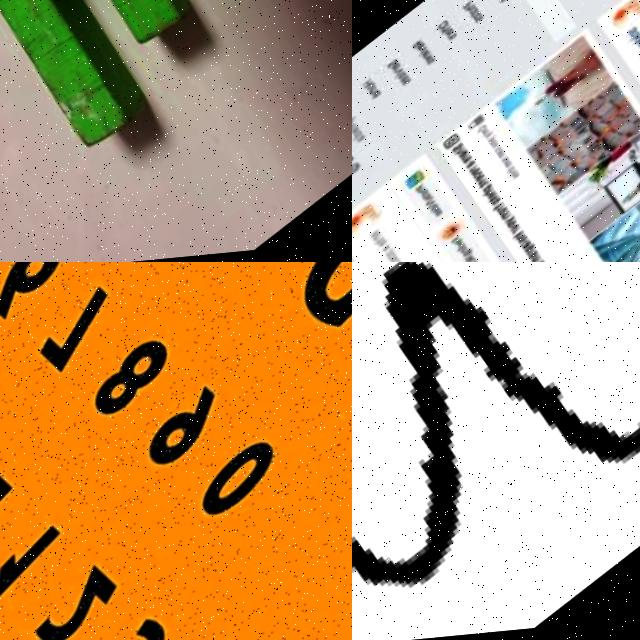0: (178, 413, 319, 545)
1: (0, 508, 85, 616)
2: (10, 547, 151, 640)
3: (352, 262, 640, 640), (75, 606, 199, 640)
6: (0, 262, 102, 352)
7: (15, 264, 152, 391)
8: (66, 312, 205, 443)
9: (125, 366, 259, 491)
A: (386, 243, 397, 253), (526, 243, 537, 253), (461, 151, 471, 161), (469, 161, 479, 171), (533, 252, 543, 262), (469, 255, 480, 262), (360, 133, 369, 141), (352, 153, 357, 165), (499, 151, 507, 158)
C: (476, 171, 486, 181), (400, 71, 409, 80), (497, 148, 506, 156), (472, 258, 481, 262)
D: (433, 203, 446, 215), (354, 129, 366, 138), (352, 146, 353, 160)
E: (374, 88, 385, 98), (474, 168, 485, 178), (354, 124, 364, 134), (402, 73, 412, 83), (418, 42, 428, 52), (423, 49, 433, 59), (445, 27, 455, 37), (383, 238, 393, 248), (461, 241, 471, 251), (508, 162, 518, 172), (393, 61, 404, 70), (465, 157, 476, 166), (478, 175, 489, 184), (437, 207, 446, 216), (506, 160, 515, 169), (459, 239, 468, 246)
F: (0, 0, 337, 185), (455, 234, 468, 246), (496, 204, 508, 214), (441, 24, 452, 33), (443, 26, 453, 35)
G: (528, 245, 541, 257), (468, 249, 479, 259)
H: (456, 147, 469, 159), (486, 189, 499, 201), (364, 77, 376, 88), (466, 5, 477, 15), (422, 186, 431, 195), (511, 170, 520, 178)
I: (517, 233, 528, 242), (396, 70, 406, 79), (378, 236, 388, 245), (462, 246, 472, 255), (357, 132, 367, 140), (420, 49, 430, 57), (432, 204, 441, 211), (513, 173, 522, 180), (631, 37, 640, 44), (352, 152, 354, 163)
K: (632, 37, 640, 49), (634, 41, 640, 53), (352, 113, 355, 123), (352, 109, 353, 120)
L: (485, 132, 493, 140), (461, 245, 470, 252)
M: (505, 212, 515, 223), (371, 84, 381, 94), (352, 119, 360, 130), (536, 256, 546, 262)
N: (520, 234, 531, 244), (481, 178, 491, 188), (484, 129, 493, 138), (501, 153, 510, 162), (466, 248, 474, 256)
O: (438, 20, 450, 31), (392, 251, 403, 261), (511, 221, 522, 231), (491, 193, 501, 203), (501, 209, 512, 218), (470, 7, 480, 16), (424, 189, 434, 198), (428, 194, 437, 204), (438, 210, 448, 219), (495, 199, 505, 208), (480, 126, 490, 135), (369, 81, 378, 90), (474, 13, 483, 21), (492, 140, 501, 148), (498, 0, 507, 2)
P: (389, 247, 402, 259), (486, 184, 499, 196), (418, 182, 431, 194), (463, 0, 475, 11)
R: (413, 38, 425, 49), (473, 166, 482, 175), (532, 250, 541, 259), (500, 206, 509, 214), (380, 233, 388, 241), (517, 229, 525, 237), (448, 32, 457, 39), (464, 155, 473, 162), (396, 65, 404, 72)
S: (454, 143, 467, 155), (627, 30, 639, 42), (388, 57, 400, 68), (404, 77, 415, 87), (522, 237, 533, 247), (449, 33, 459, 42), (476, 16, 486, 25), (429, 58, 438, 67), (515, 174, 524, 182), (395, 255, 403, 262), (500, 0, 510, 5), (504, 158, 512, 164)
T: (380, 236, 391, 246), (493, 197, 502, 206), (524, 242, 533, 251), (482, 183, 492, 191), (471, 12, 480, 20), (631, 34, 640, 42), (394, 256, 405, 262), (510, 168, 519, 175), (426, 193, 434, 200)
U: (514, 225, 524, 235), (495, 145, 502, 151)
V: (430, 200, 441, 209), (397, 66, 406, 75), (420, 46, 429, 54)
W: (373, 228, 387, 242), (426, 54, 435, 63)
Y: (509, 218, 521, 228), (490, 137, 500, 146), (352, 114, 359, 125), (487, 133, 496, 141)
